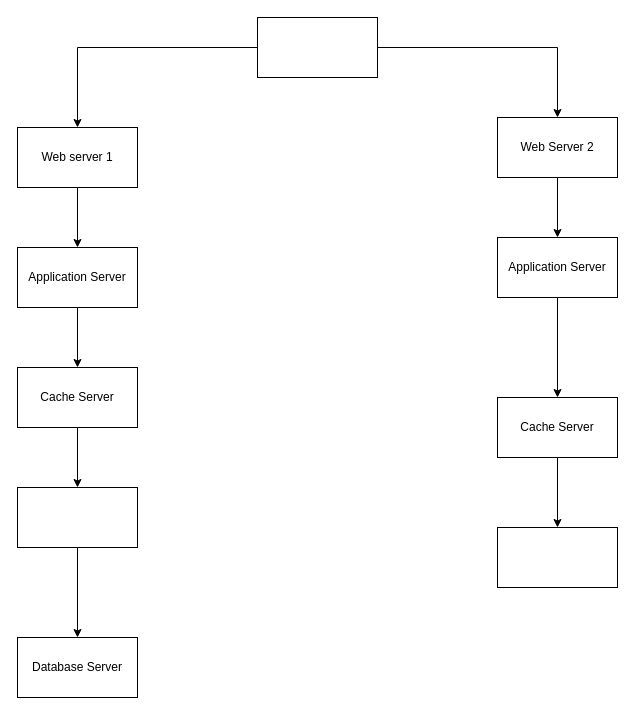
The diagram is 635 pixels wide and 715 high, and some of its shapes have lost their labels. Here are the shapes that lost their labels. From the top down, the centre of each, then its label:
the point at 317,47: Load Balancer
the point at 77,517: Message Queue
the point at 557,557: External Services
